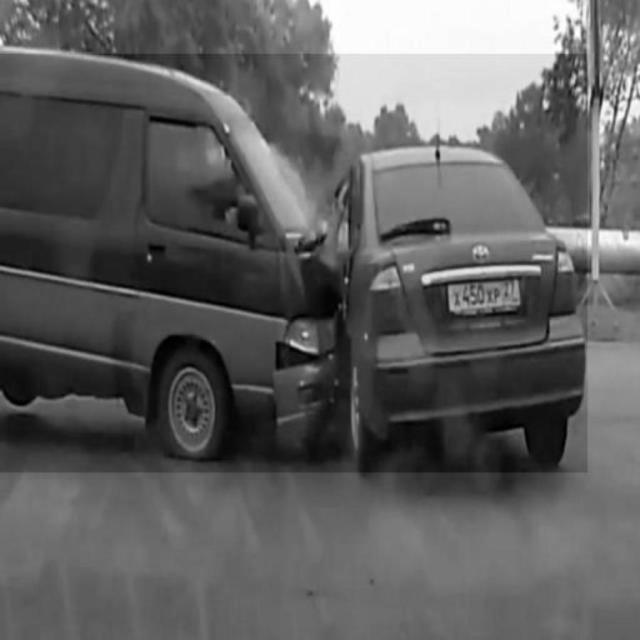accident: (0, 54, 587, 472)
